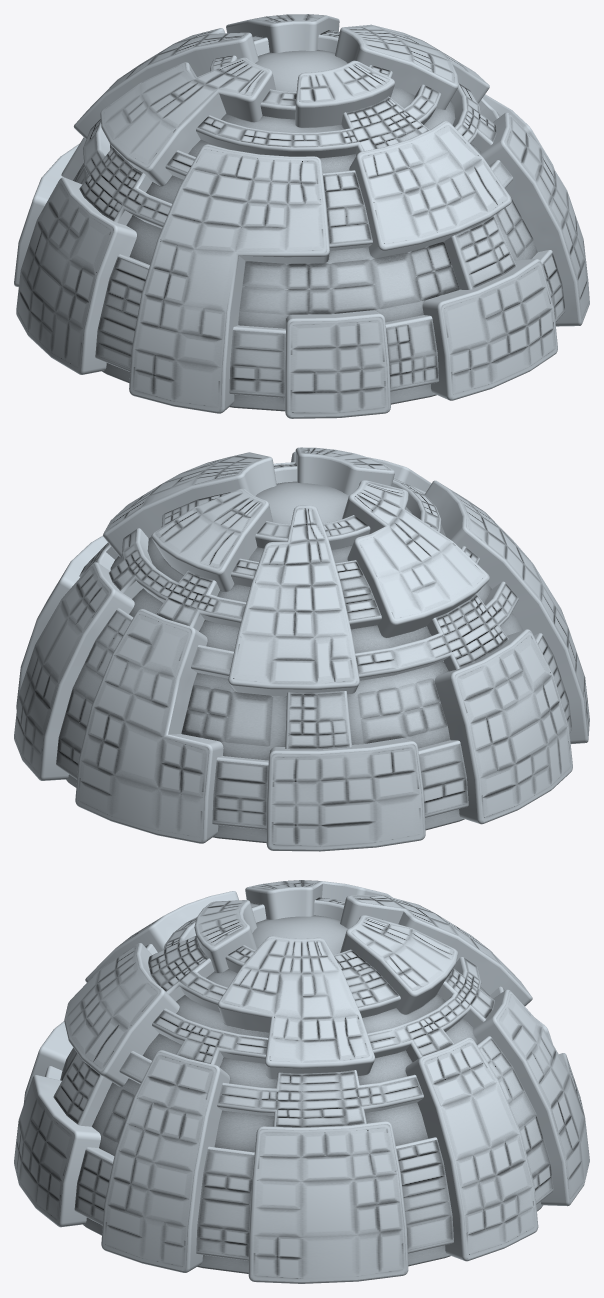
The model's file is portal_generator.gltf.
3 renders of one model, top to bottom at view 1: azimuth 30°, elevation 25°; view 2: azimuth 150°, elevation 25°; view 3: azimuth 270°, elevation 25°, orthographic.
Parts seen in each view (by area): view 1: details01, details02, main; view 2: details01, details02, main; view 3: details01, details02, main.
Boxes of the visible parts, x1,y1,x2,y2 form: details01: (14,14,589,418); details02: (61,30,565,397); main: (73,50,537,411); details01: (14,447,589,851); details02: (56,462,571,829); main: (66,481,523,843); details01: (14,880,589,1283); details02: (45,897,553,1260); main: (60,915,542,1273).
Size of the model in its own units: 2.35 by 1.15 by 2.35.
1 material, 1 textured.
